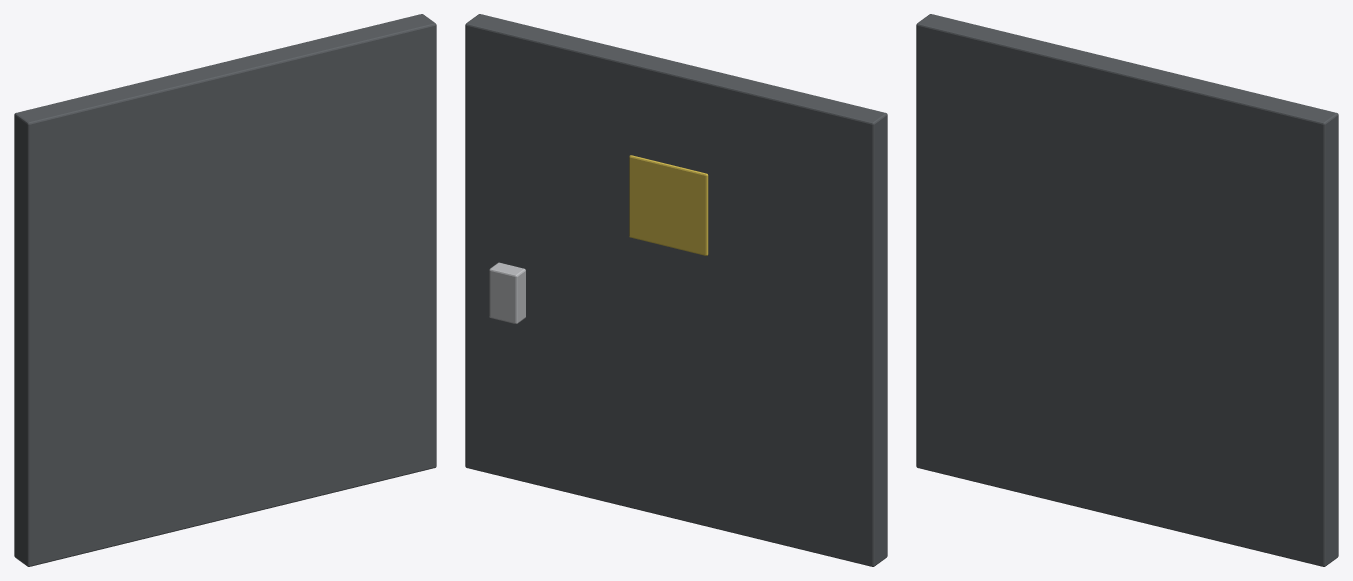
File: door_sliding_2.fbx
3 renders of one model, left to right at view 1: azimuth 30°, elevation 25°; view 2: azimuth 150°, elevation 25°; view 3: azimuth 330°, elevation 25°, orthographic.
Parts seen in each view (by area): view 1: door_sliding_2; view 2: door_sliding_2; view 3: door_sliding_2.
Boxes of the visible parts, x1,y1,x2,y2 form: door_sliding_2: (14, 14, 436, 566); door_sliding_2: (465, 14, 887, 566); door_sliding_2: (916, 14, 1338, 566).
Bounding box in the file's own units: 2.6 × 2.7 × 0.26.
